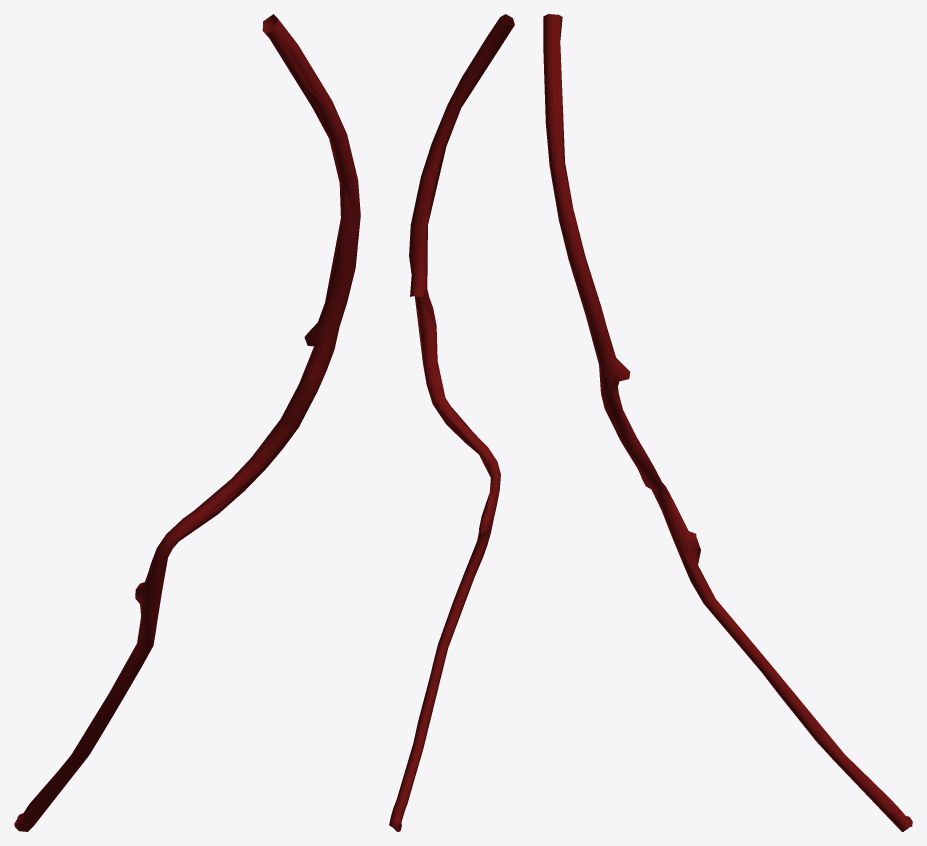
Rendered from L femoralis.fbx.
3 renders of one model, left to right at view 1: azimuth 30°, elevation 25°; view 2: azimuth 150°, elevation 25°; view 3: azimuth 270°, elevation 25°, orthographic. The views are drawn at different scales.
Visible parts, largest first — view 1: L femoralis, L femoralis low; view 2: L femoralis low, L femoralis; view 3: L femoralis, L femoralis low.
Boxes of the visible parts, <box> form: L femoralis: <box>14,14,360,831</box>; L femoralis low: <box>15,14,359,831</box>; L femoralis low: <box>394,14,514,831</box>; L femoralis: <box>389,17,514,831</box>; L femoralis: <box>543,14,912,831</box>; L femoralis low: <box>554,17,912,831</box>.
Size of the model in its own units: 6.2 by 34.57 by 13.77.
